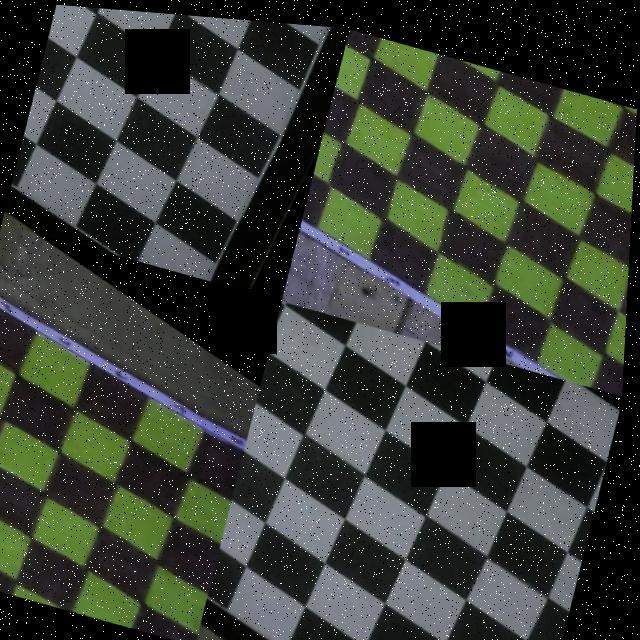chess-table-corners: (38, 70, 46, 84), (199, 268, 213, 276), (226, 531, 232, 541), (306, 195, 312, 205), (185, 635, 192, 640), (0, 242, 3, 248)
